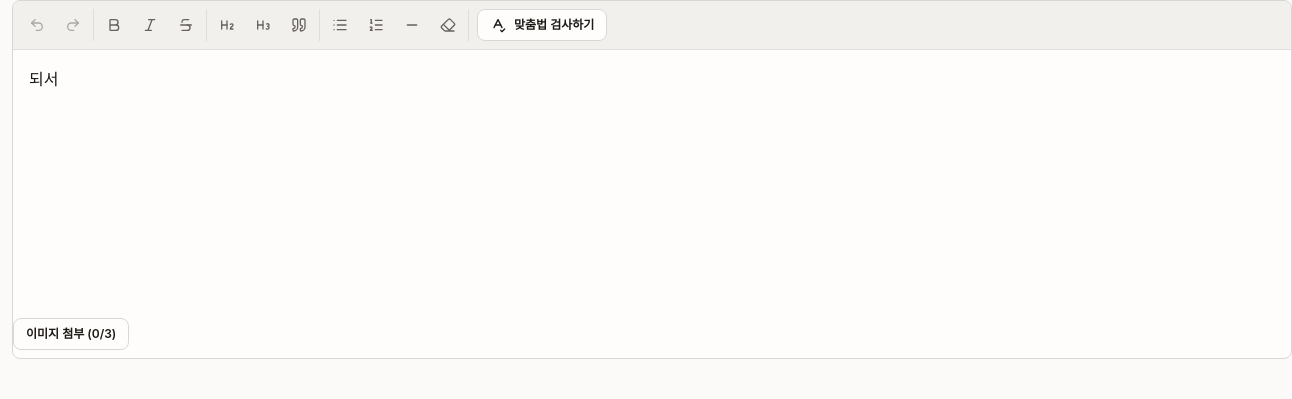
Test: real editor Enter › discards a spellcheck response when the document changed in flight
Click the button "맞춤법 검사하기" at (542, 25), box [477,9,607,41]
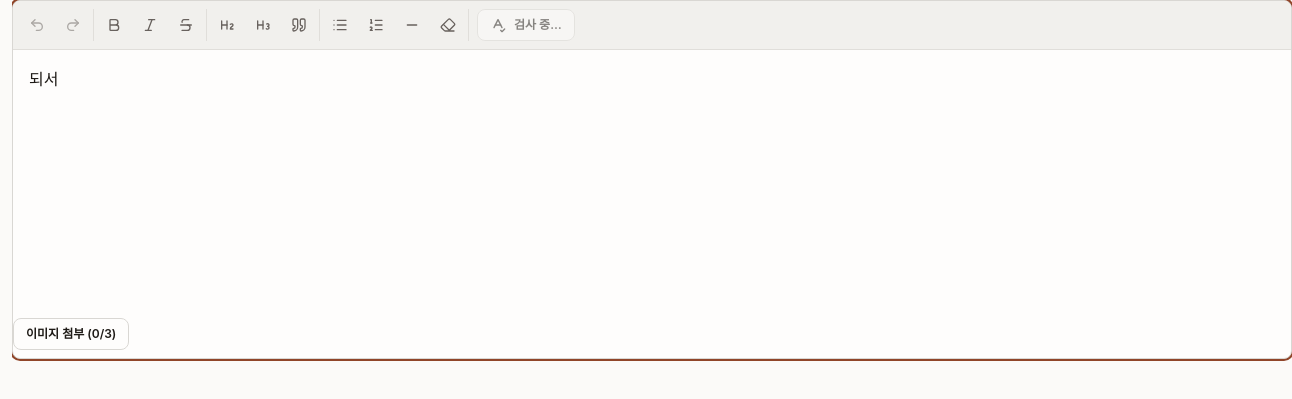
Press Enter in the field named "독후감 본문", box [29,69,58,89]
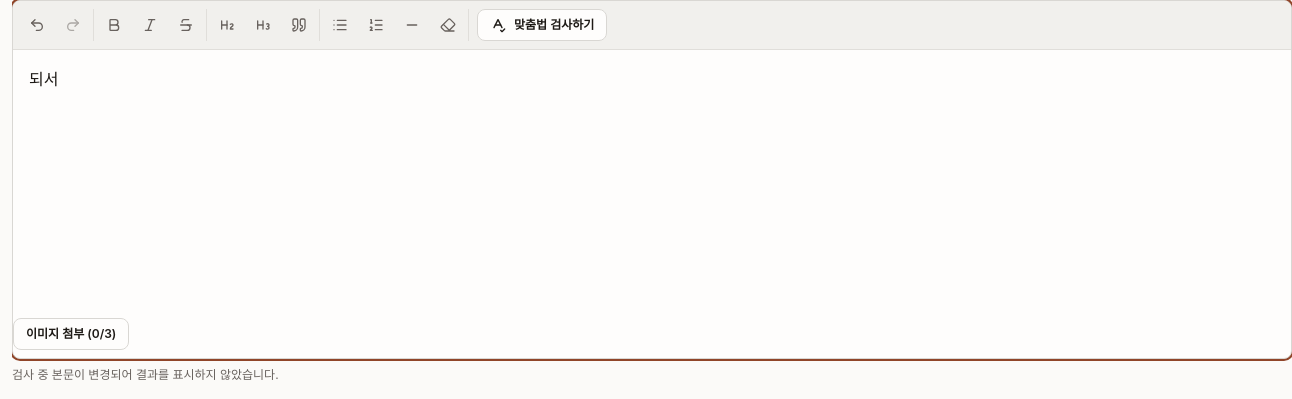
Expected: the message reads "검사 중 본문이 변경되어 결과를 표시하지 않았습니다.", [12,367,279,382]
